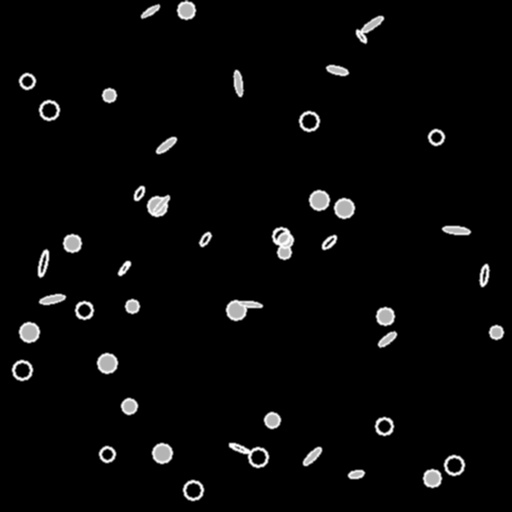pseudomonas: (302, 446, 322, 466), (361, 15, 383, 33), (155, 136, 177, 154), (152, 194, 170, 214), (377, 330, 397, 348), (140, 3, 160, 19), (37, 250, 49, 276), (40, 293, 64, 305), (442, 225, 470, 235), (326, 64, 348, 76), (321, 234, 337, 250), (229, 442, 249, 454), (233, 71, 243, 95), (132, 185, 146, 201), (117, 260, 131, 276), (198, 231, 212, 247), (479, 265, 489, 285), (354, 29, 368, 43), (238, 300, 262, 308), (348, 469, 364, 479)
synechocystis: (153, 444, 171, 462), (184, 481, 202, 499), (98, 354, 116, 372), (13, 361, 31, 379), (249, 448, 267, 466), (310, 191, 328, 209), (40, 101, 58, 119), (335, 199, 353, 217), (445, 456, 463, 474), (20, 323, 38, 341), (227, 301, 245, 319), (300, 112, 318, 130), (148, 197, 166, 215), (178, 2, 194, 18), (64, 235, 80, 251), (377, 308, 393, 324), (376, 418, 392, 434), (424, 470, 440, 486), (76, 302, 92, 318), (273, 228, 289, 244), (278, 233, 292, 247), (265, 413, 279, 427), (122, 399, 136, 413), (20, 74, 34, 88), (429, 130, 443, 144), (100, 447, 114, 461), (103, 89, 115, 101), (278, 246, 290, 258), (126, 300, 138, 312), (490, 326, 502, 338)
